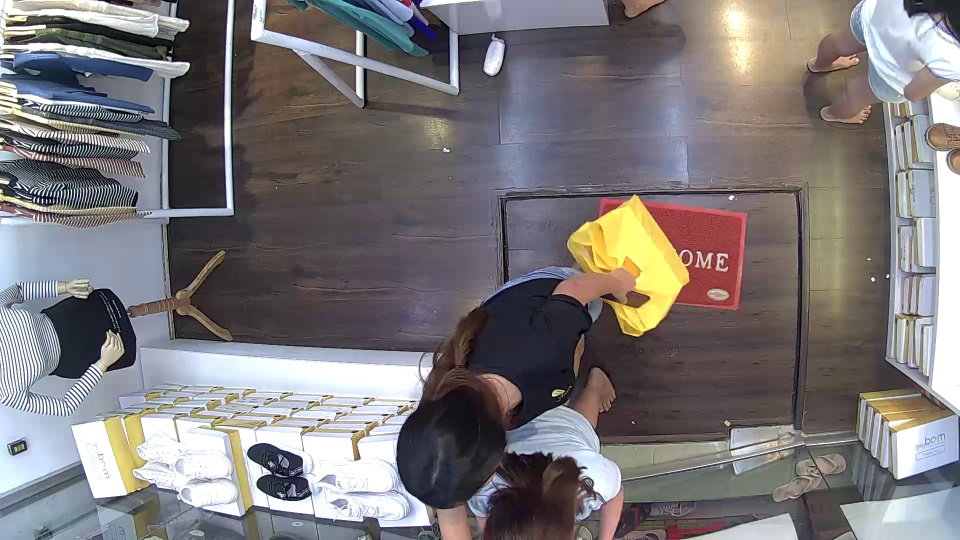topviewhead: (392, 390, 507, 510)
